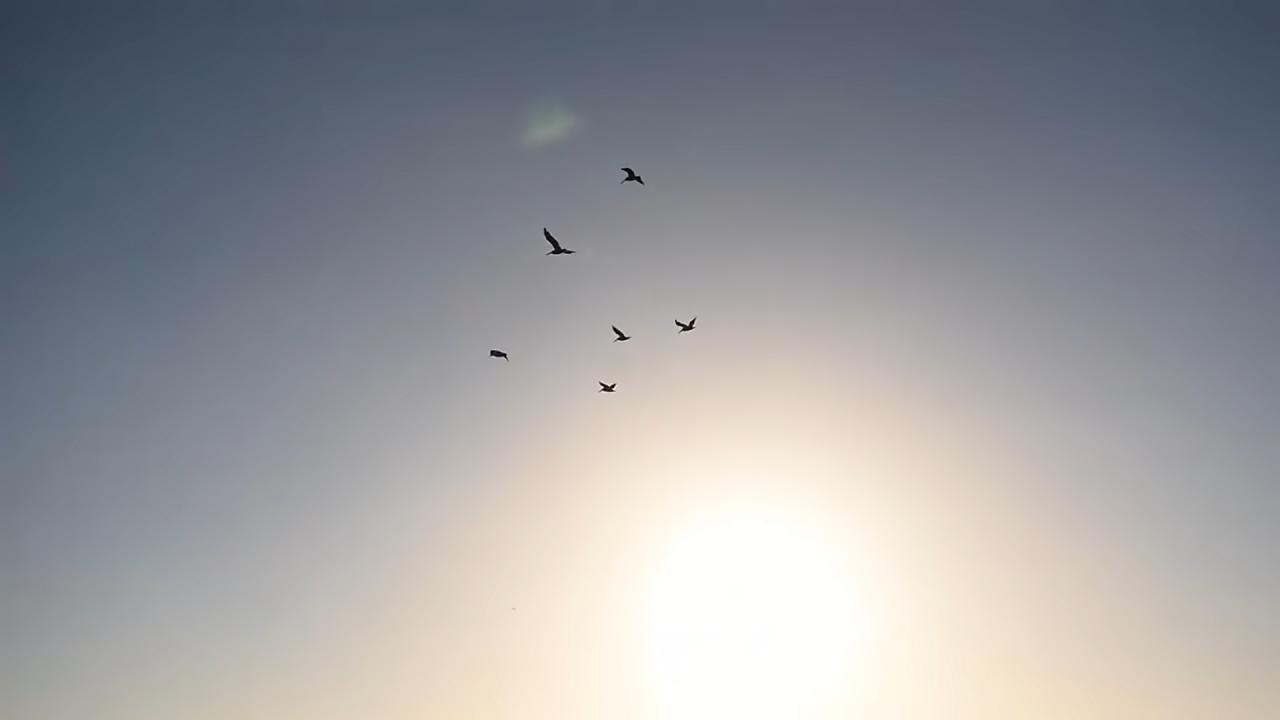Bird: (539, 224, 580, 259), (671, 314, 702, 336), (607, 322, 632, 347), (484, 345, 512, 365), (594, 378, 620, 397)
